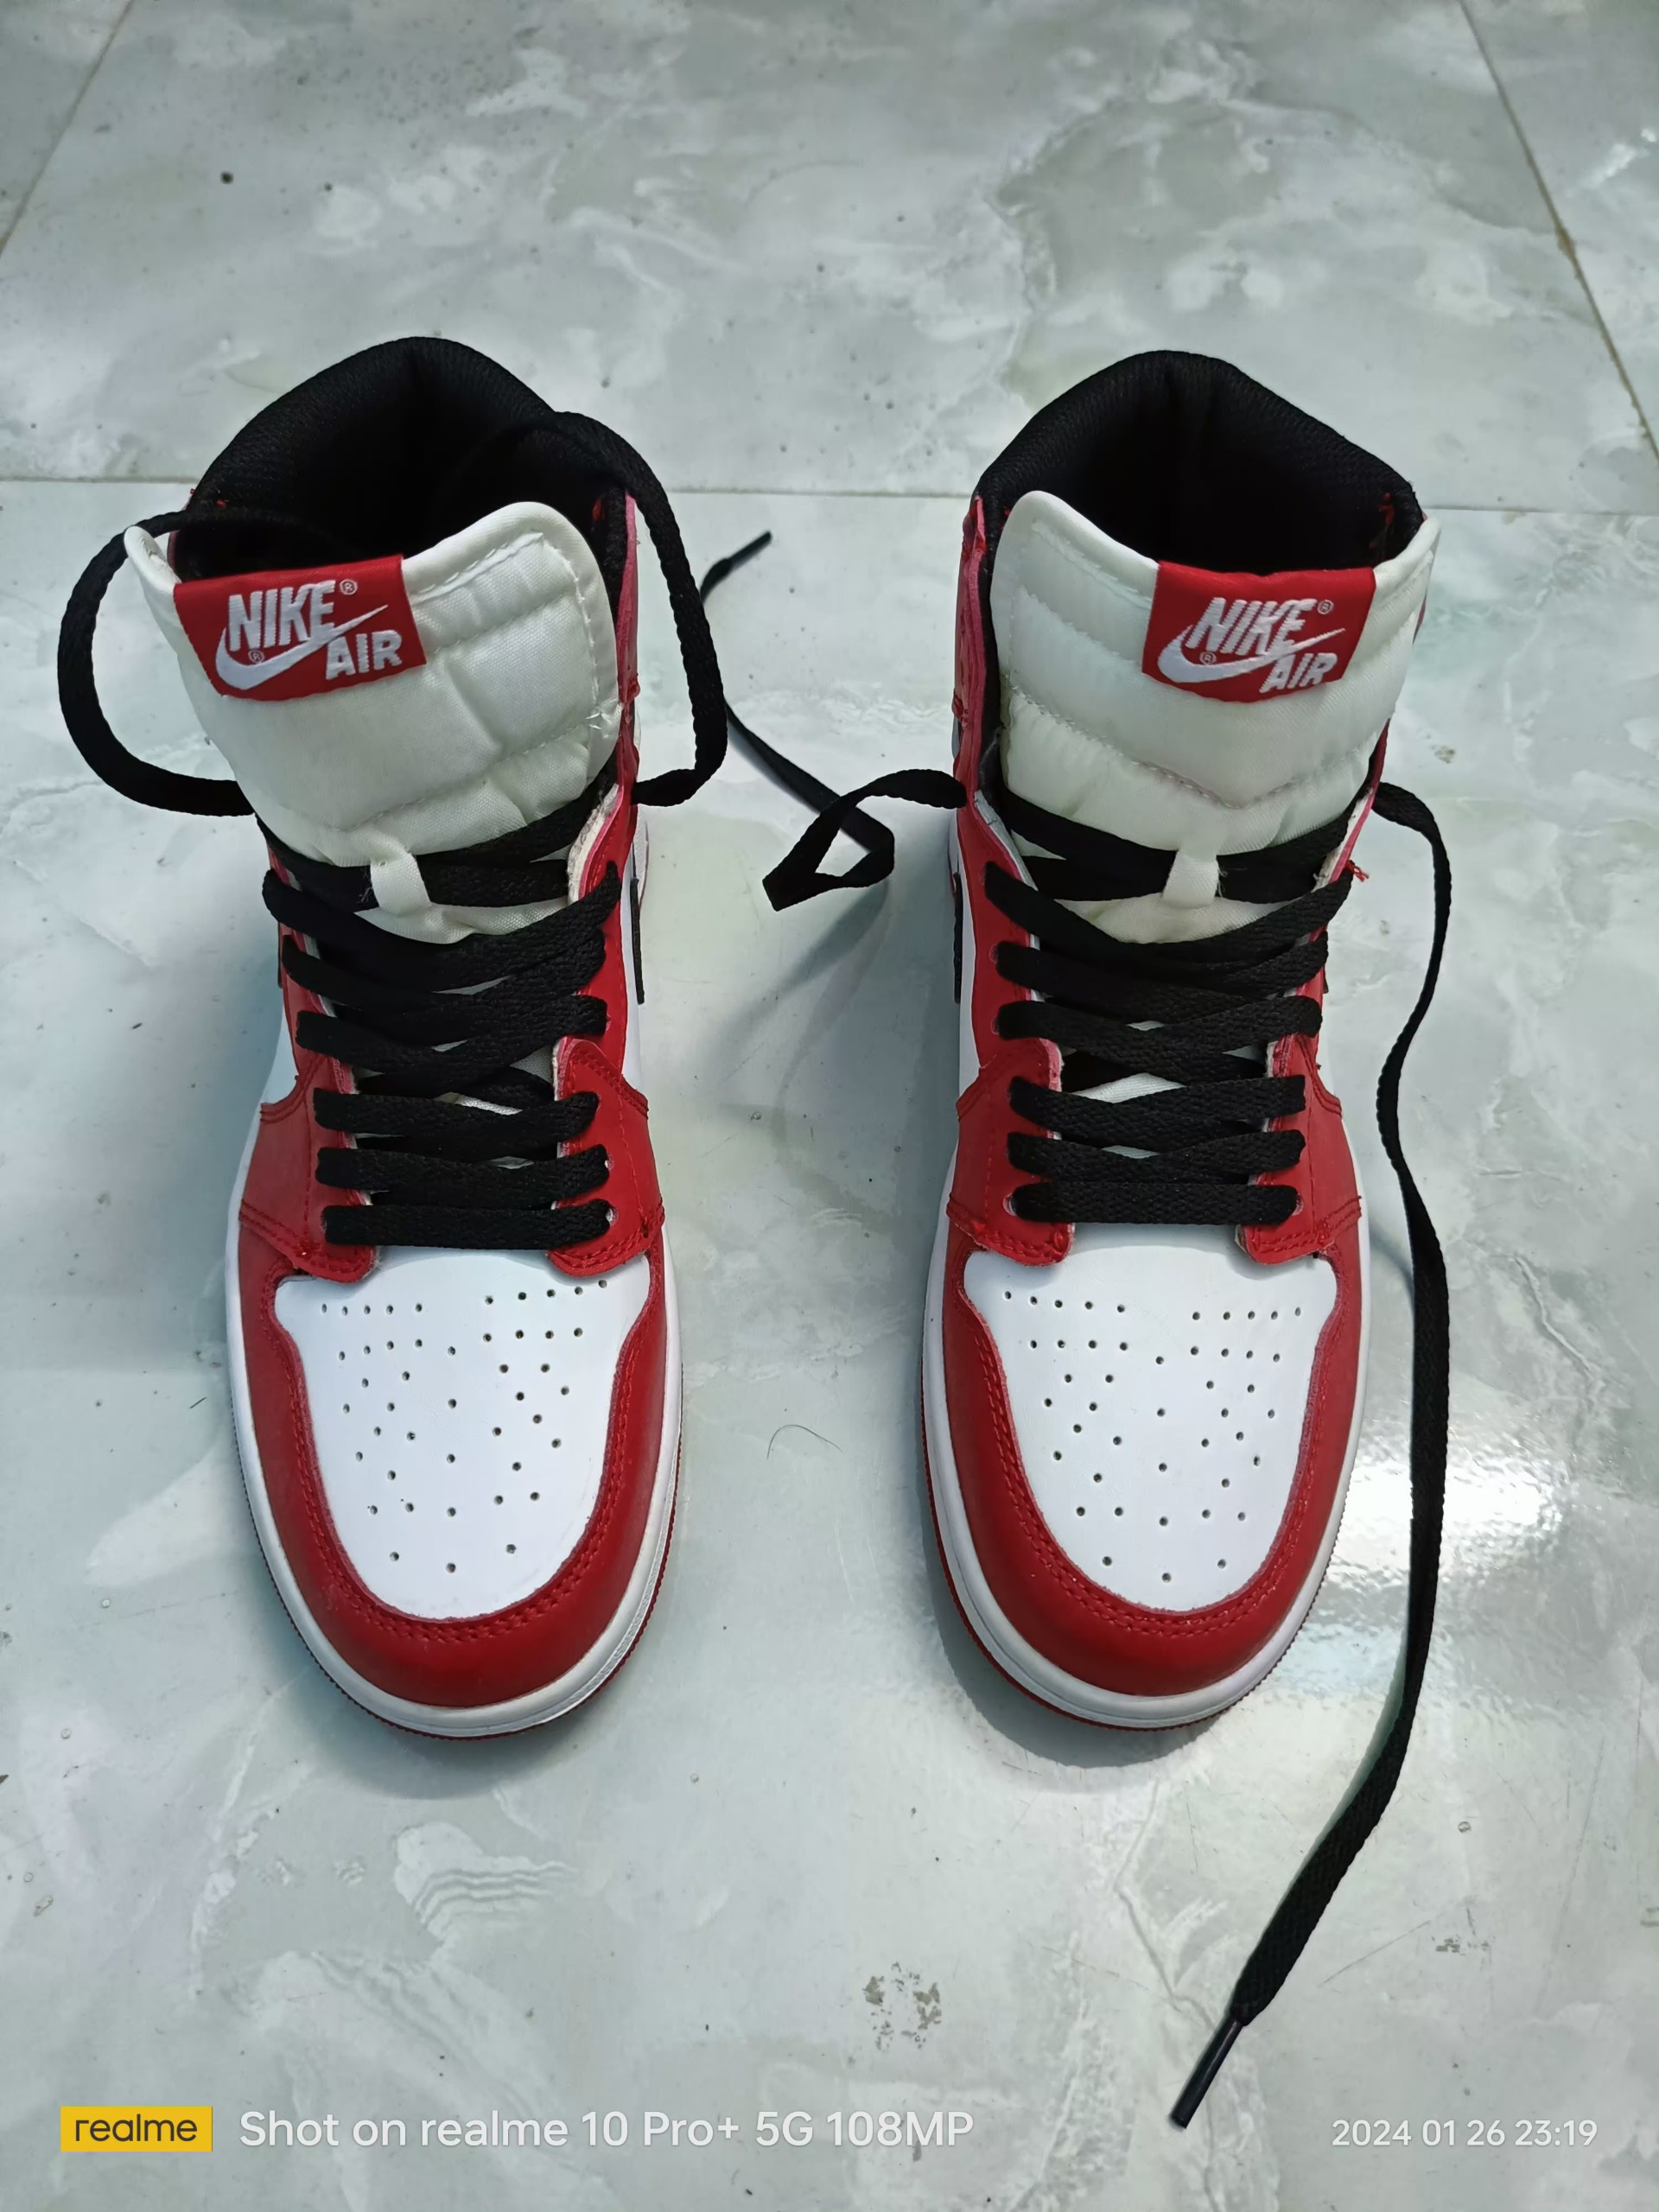sneakers: (127, 331, 667, 1756), (906, 347, 1443, 1737)
